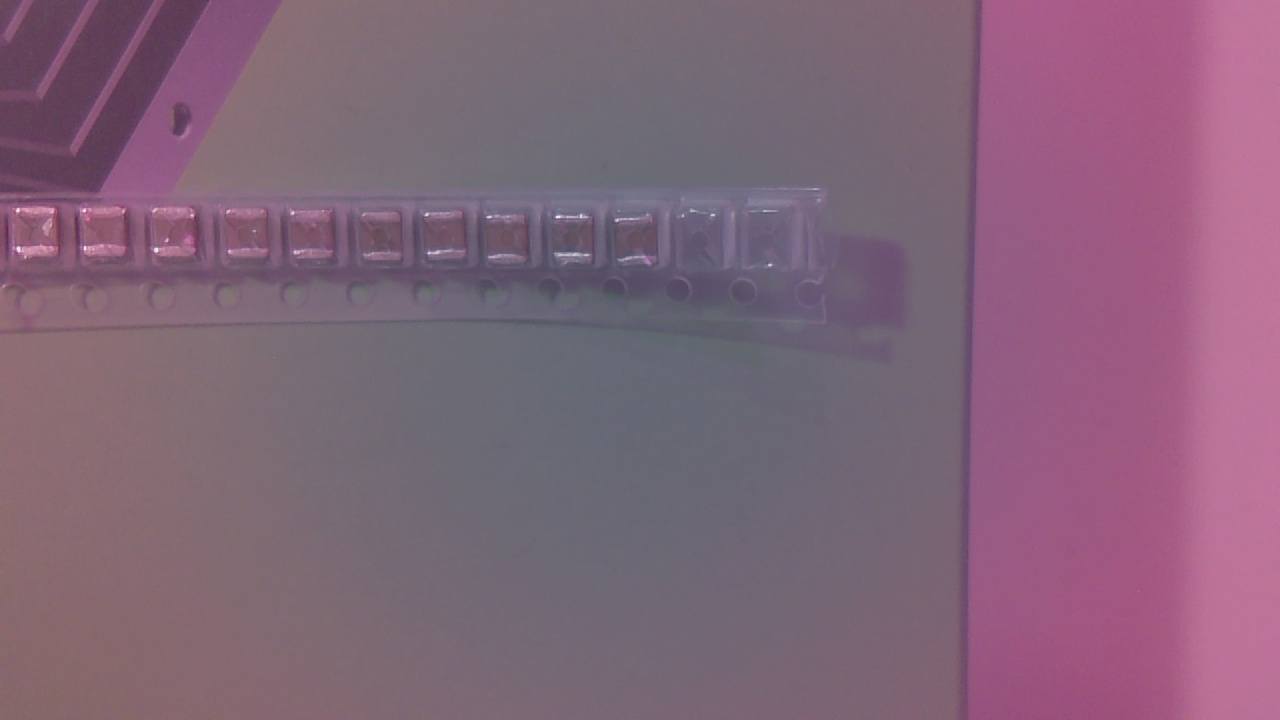Condensator: (84, 209, 135, 266), (18, 208, 65, 266), (156, 209, 204, 265), (489, 213, 534, 270), (297, 211, 340, 270), (617, 215, 662, 271), (365, 212, 408, 270), (428, 214, 471, 270), (229, 209, 272, 265), (556, 216, 596, 269)
